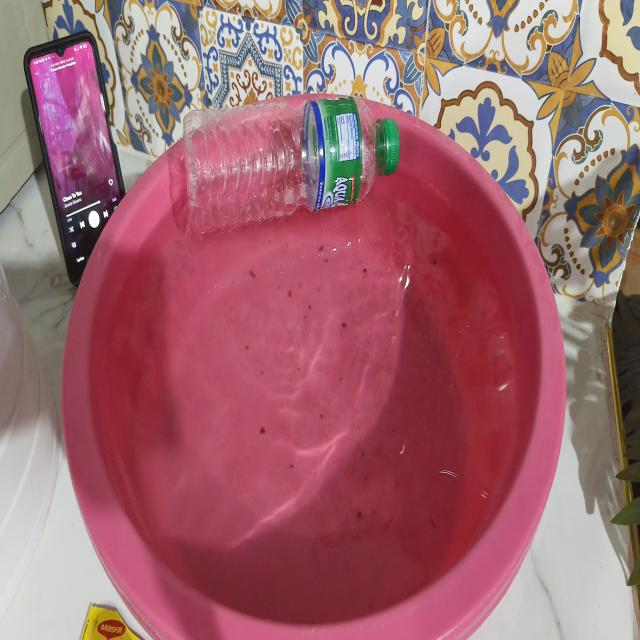Plastic Bottle: (183, 96, 400, 233)
